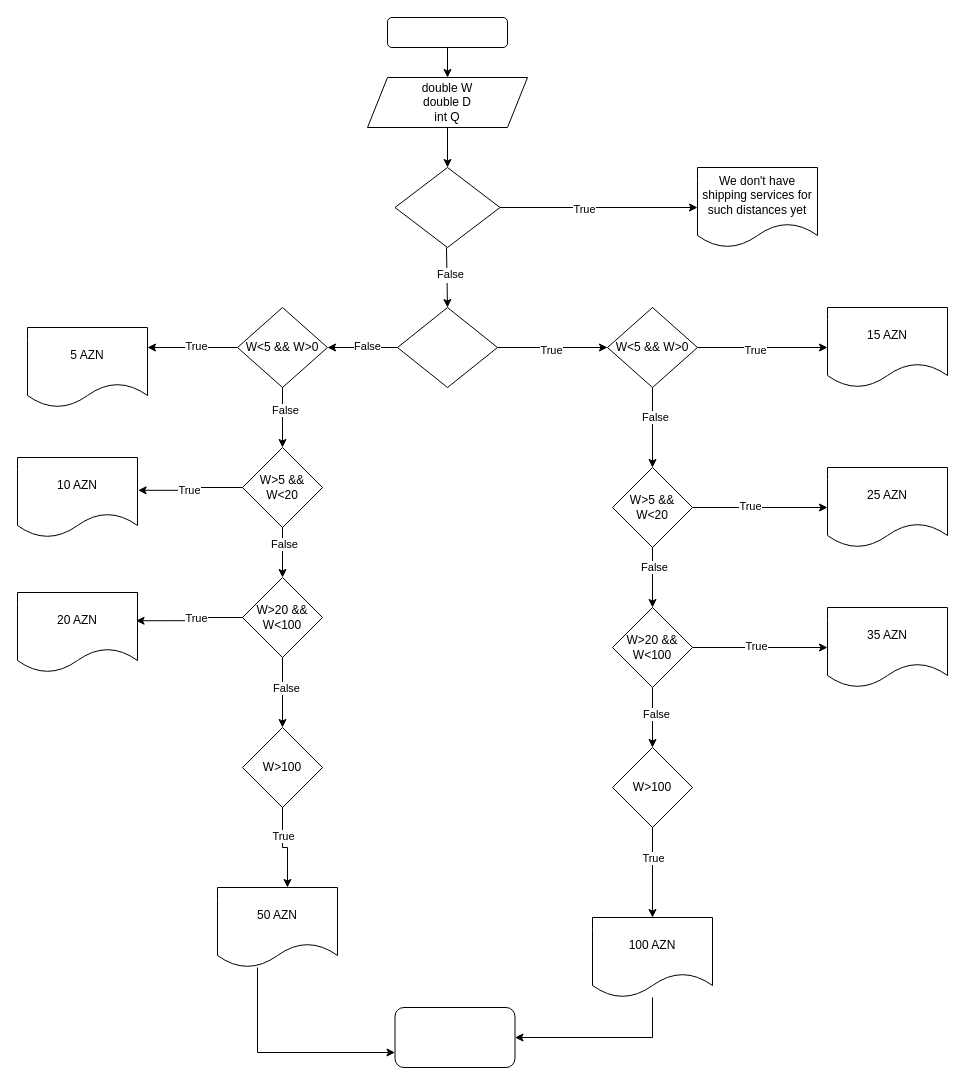
Image size: 965x1085. Some labels were removed from this diagram. Each missing label, with the box of its shape:
D<20 && W>5: (396, 306, 498, 388)
D>20 && D<0: (394, 166, 500, 248)
End: (394, 1006, 515, 1068)
Start: (386, 16, 508, 48)
